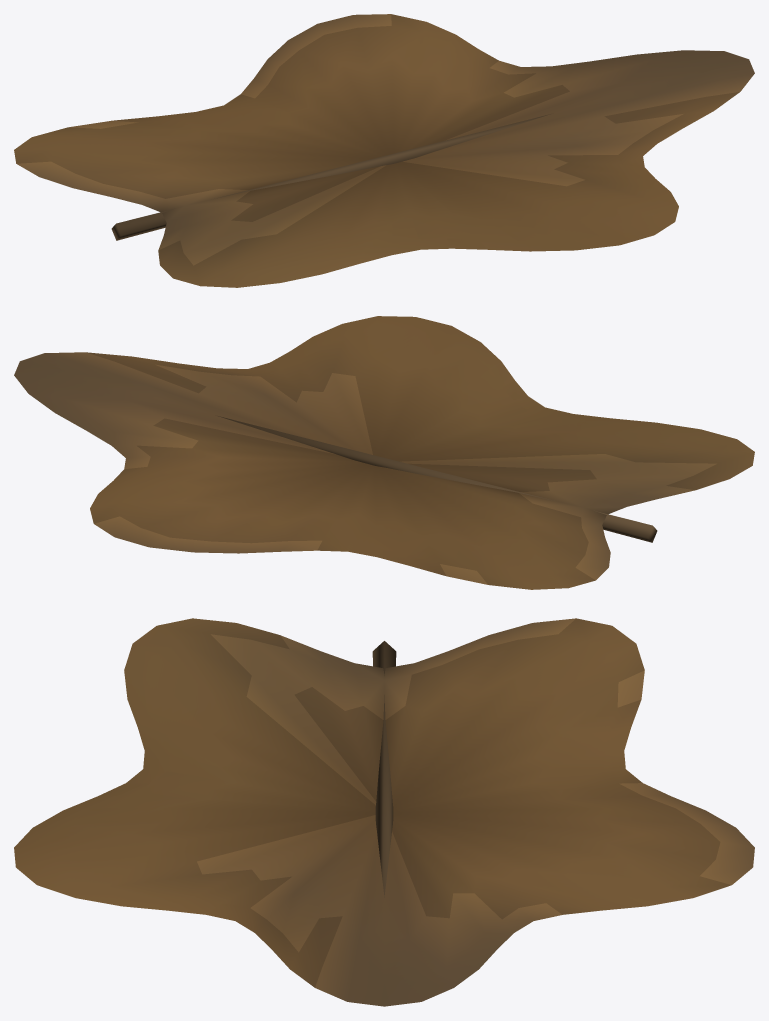
Rendered from grotto_floating_leaf.glb.
3 renders of one model, top to bottom at view 1: azimuth 30°, elevation 25°; view 2: azimuth 150°, elevation 25°; view 3: azimuth 270°, elevation 25°, orthographic. The views are drawn at different scales.
Parts seen in each view (by area): view 1: grotto_floating_leaf; view 2: grotto_floating_leaf; view 3: grotto_floating_leaf.
Part boxes in pixels (box(x1,y1,x2,y2)): grotto_floating_leaf: box(14, 14, 754, 287); grotto_floating_leaf: box(14, 316, 754, 589); grotto_floating_leaf: box(14, 618, 754, 1006).
Size of the model in its own units: 4.71 by 0.19 by 3.77.
